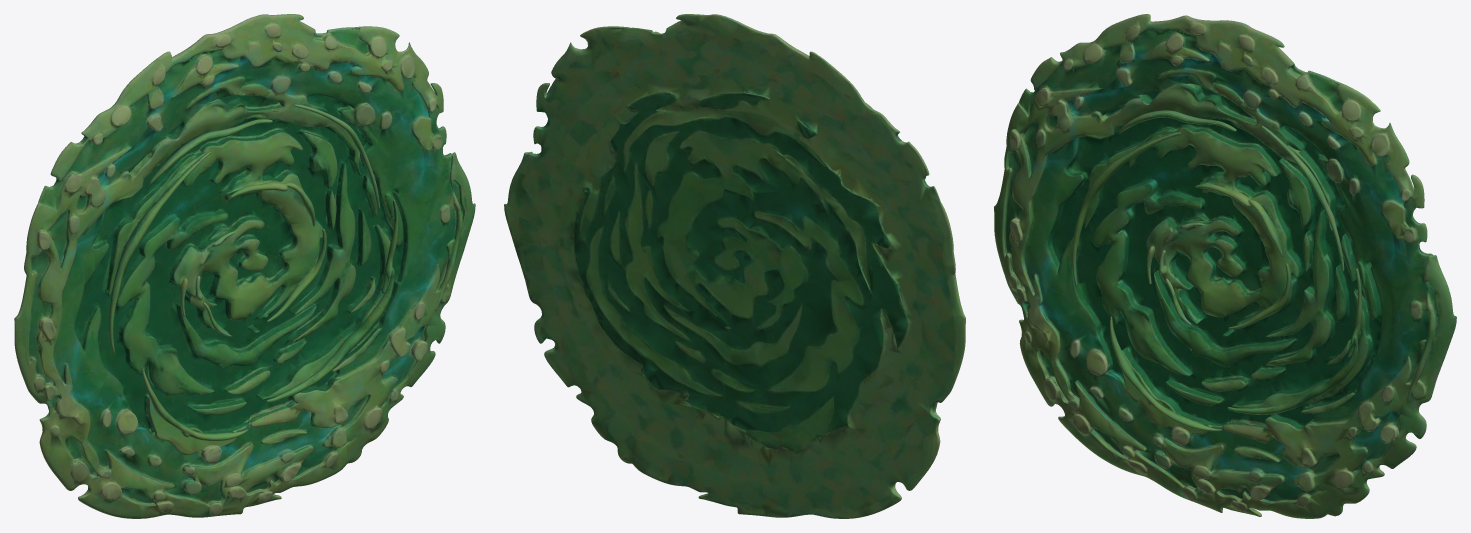
Rendered from portal.glb.
3 renders of one model, left to right at view 1: azimuth 30°, elevation 25°; view 2: azimuth 150°, elevation 25°; view 3: azimuth 330°, elevation 25°, orthographic.
Size of the model in its own units: 1.86 by 1.9 by 0.0917.
1 material, 1 textured.
